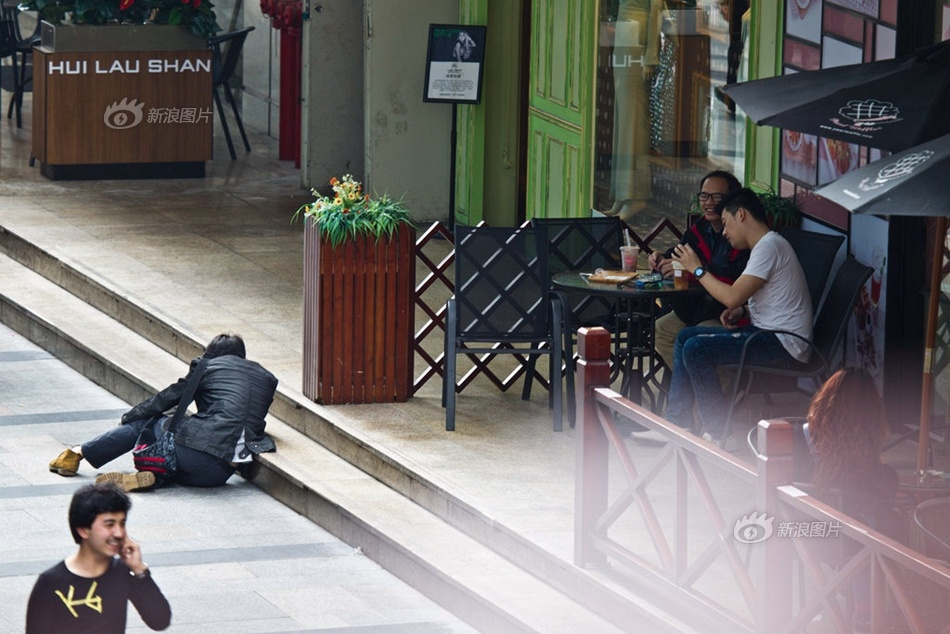falling: (39, 320, 283, 494)
